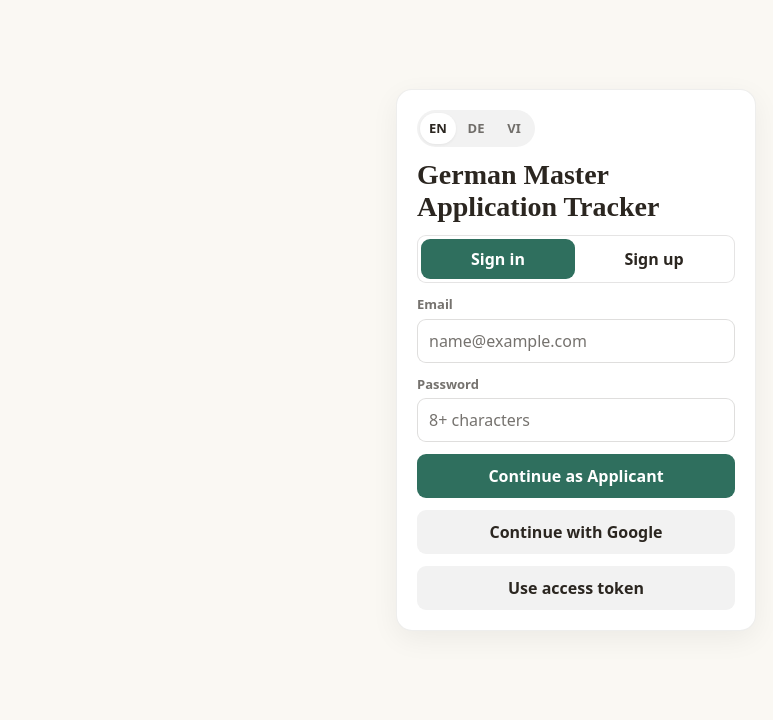
it: lets applicants sign up with gmail and password
Click the button "Sign up" at (654, 259), box left=577, top=239, right=731, bottom=279
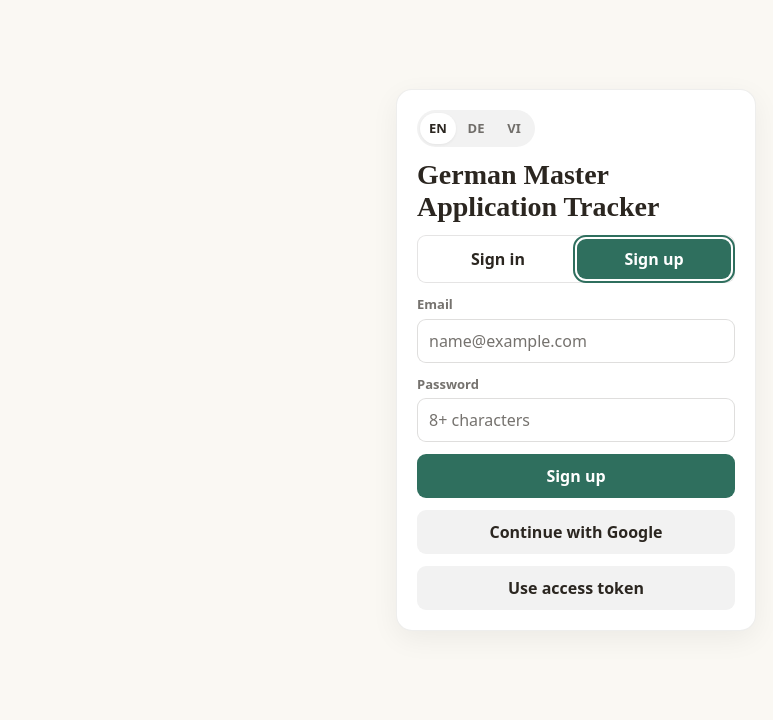
Type "student@gmail.com" into the field labelled "Email" at (576, 341), box left=417, top=319, right=735, bottom=363
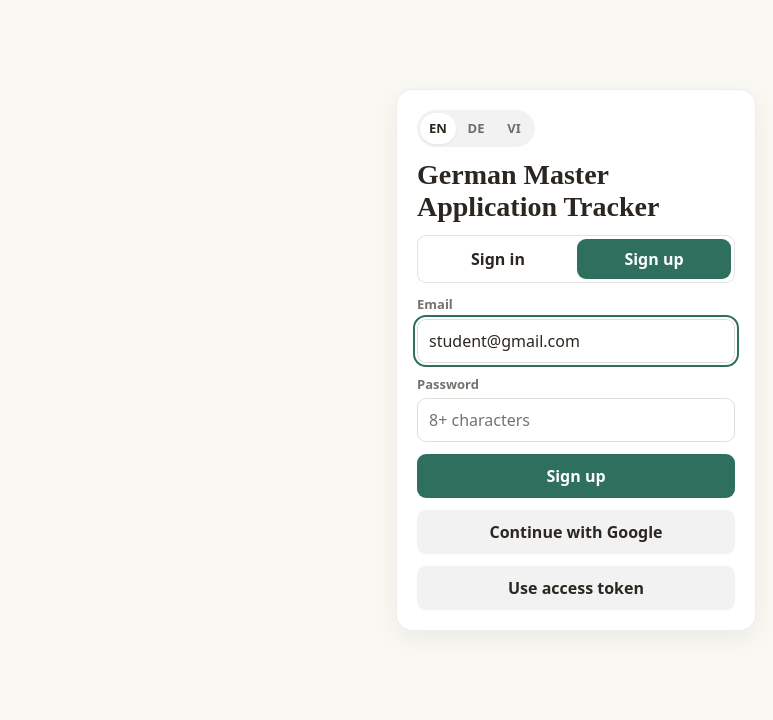
Type "secure-pass-2026" into the password field with placeholder "8+ characters" at (576, 420), box left=417, top=398, right=735, bottom=442
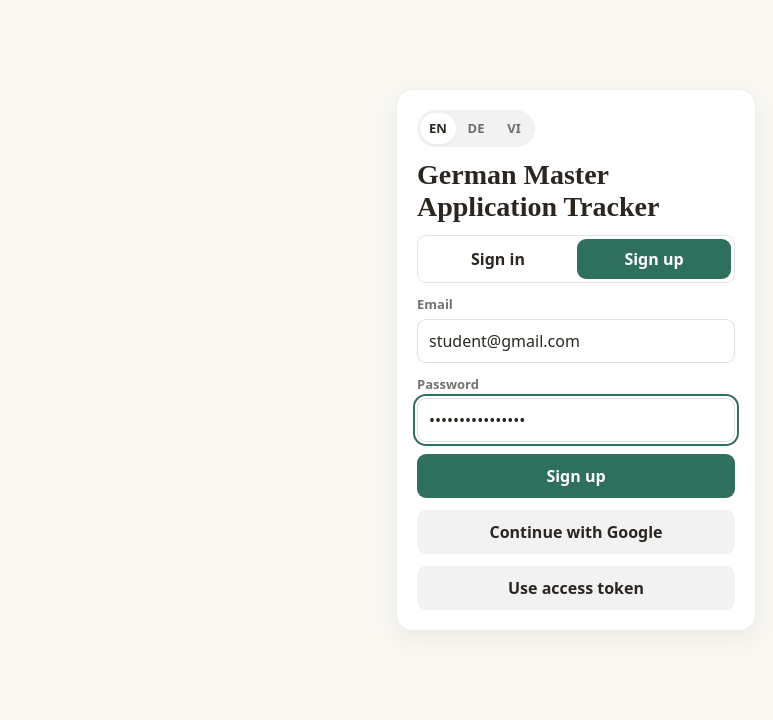
Expected: the button "Sign up" below "Password" is shown
Click the button "Sign up" below "Password" at (576, 476), box left=417, top=454, right=735, bottom=498
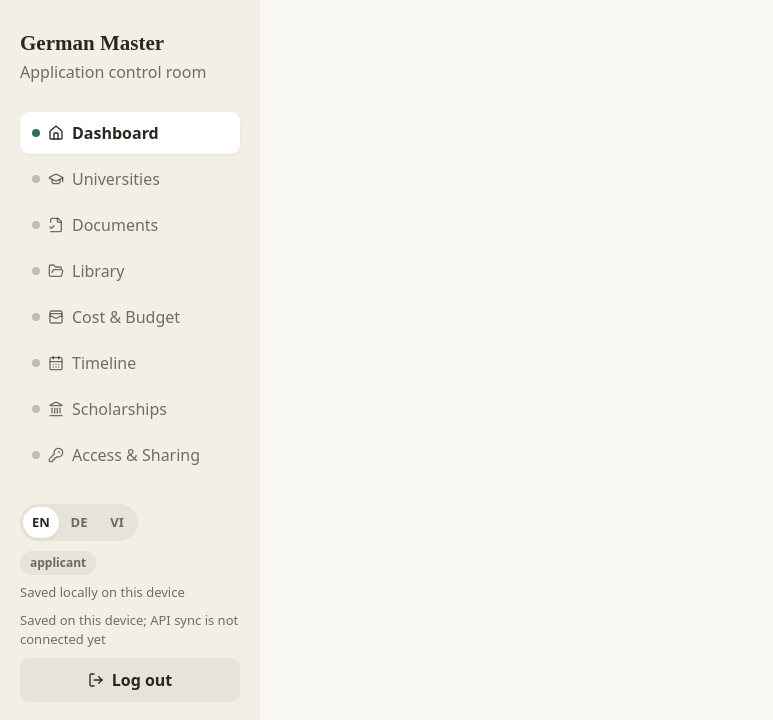
Expected: the button "Access & Sharing" is shown, left=20, top=434, right=240, bottom=476
